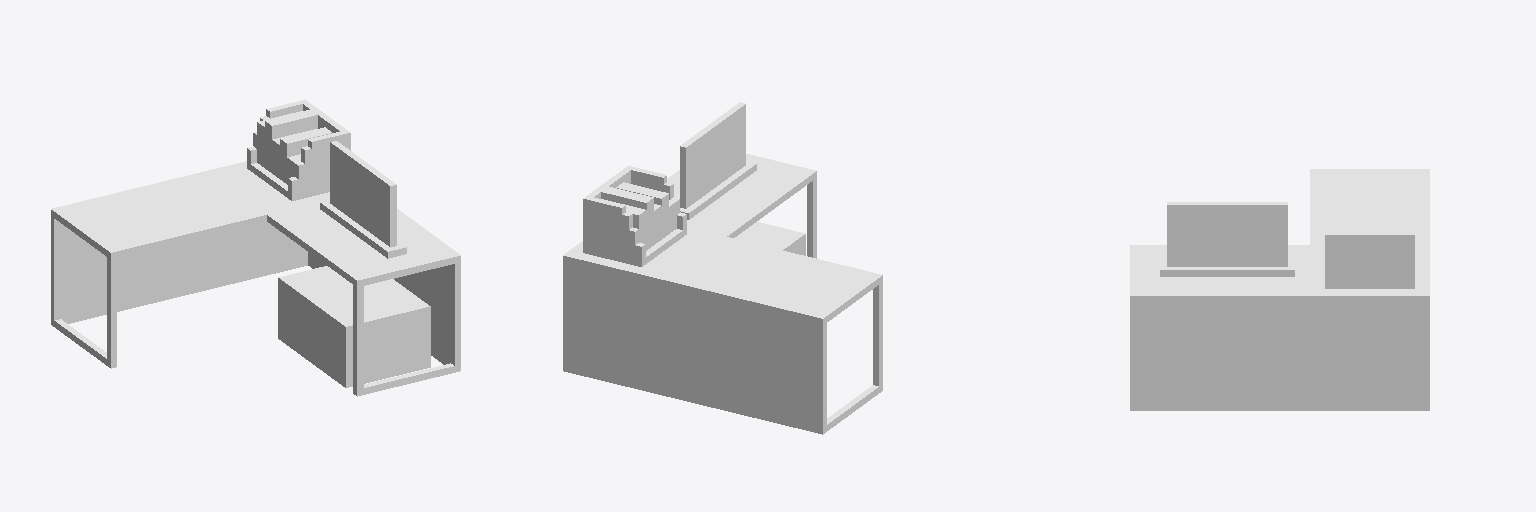
File: mesh_prop_bedroom_desk.obj
3 renders of one model, left to right at view 1: azimuth 30°, elevation 25°; view 2: azimuth 150°, elevation 25°; view 3: azimuth 270°, elevation 25°, orthographic.
Parts seen in each view (by area): view 1: object 1; view 2: object 1; view 3: object 1.
Boxes of the visible parts, x1,y1,x2,y2 form: object 1: [51, 100, 460, 396]; object 1: [563, 102, 882, 434]; object 1: [1130, 169, 1429, 410].
Size of the model in its own units: 4 by 2.7 by 4.